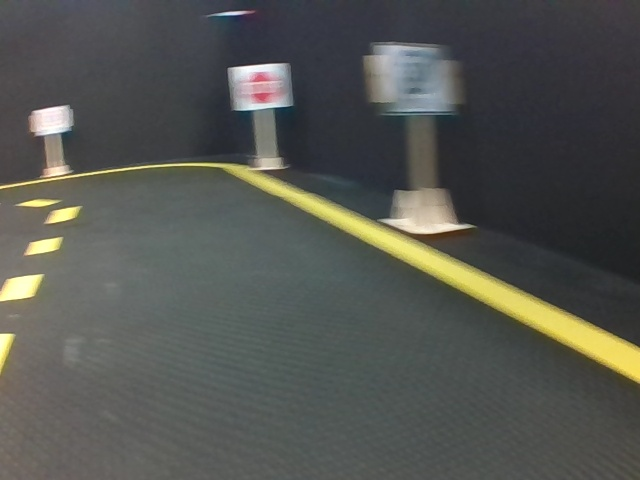30: (33, 108, 69, 132)
no30: (382, 43, 449, 116)
stop: (234, 68, 291, 107)
